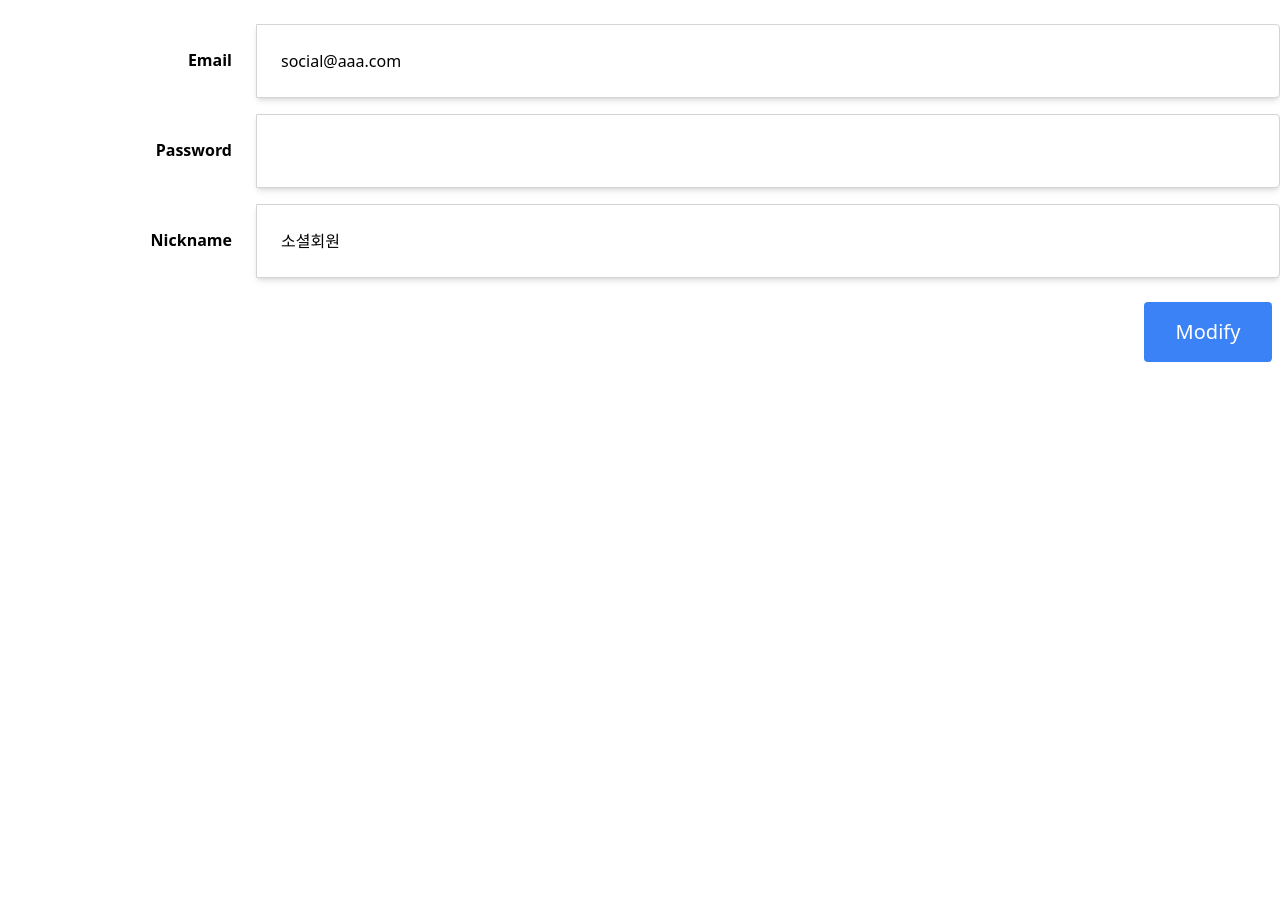
it: modification sends only form fields and the success modal logs out before returning to login
Type "2222" into the password field labelled "Password".
click(768, 151); type("2222")  # box [256,114,1279,188]
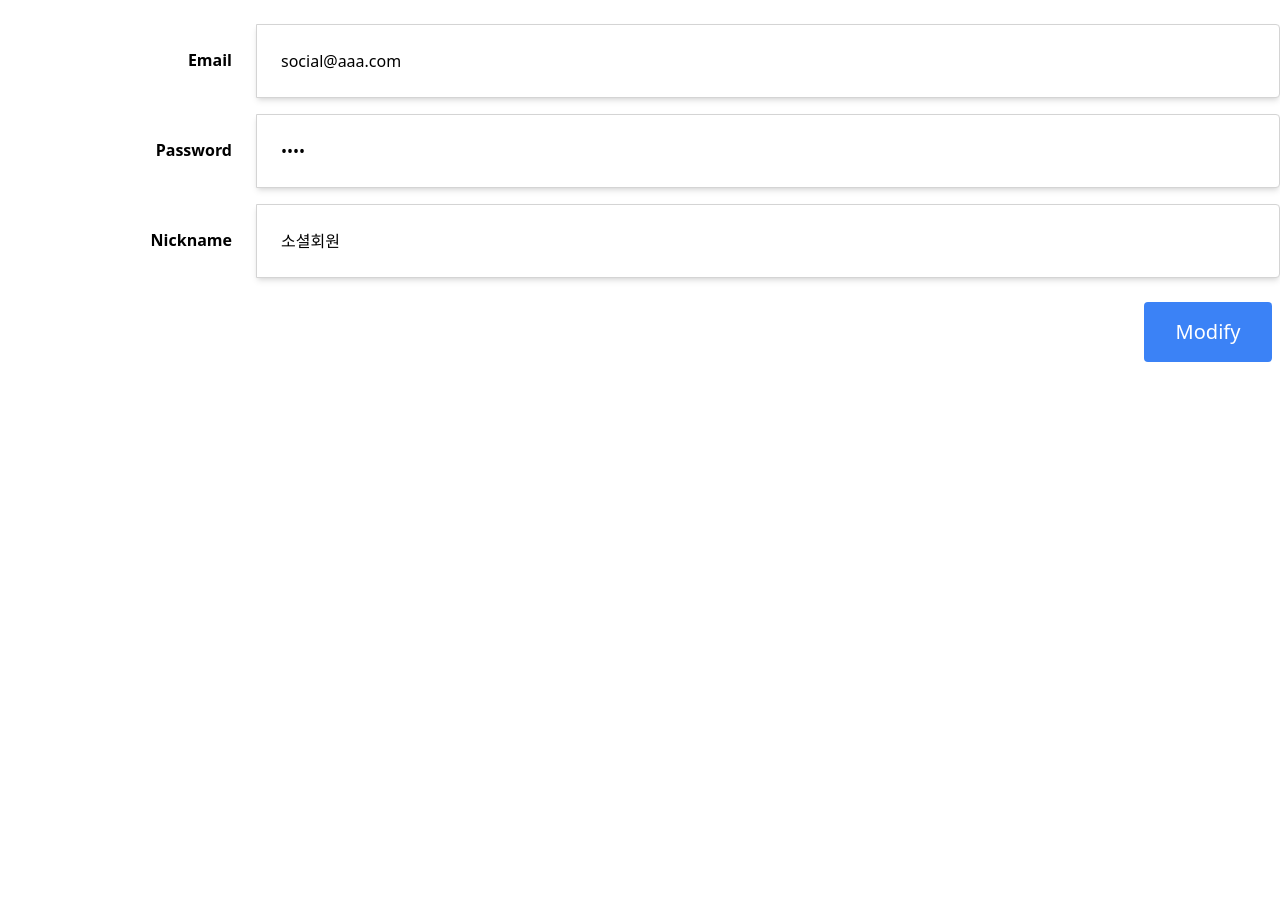
Replace the text in the field labelled "Nickname" with "새닉네임" at (768, 241), box [256,204,1279,278]
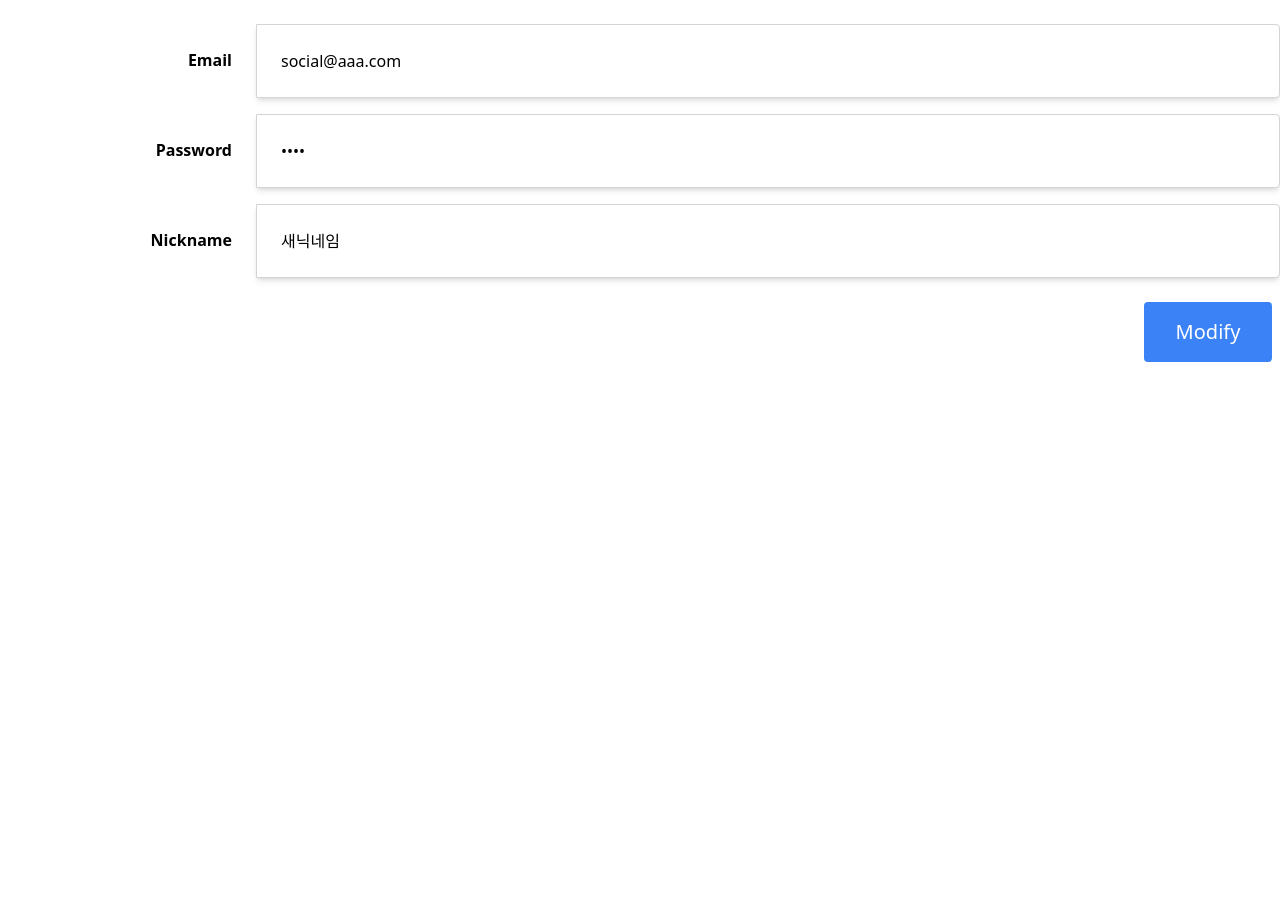
Click the button "Modify".
click(1208, 332)  # box [1144,302,1272,362]
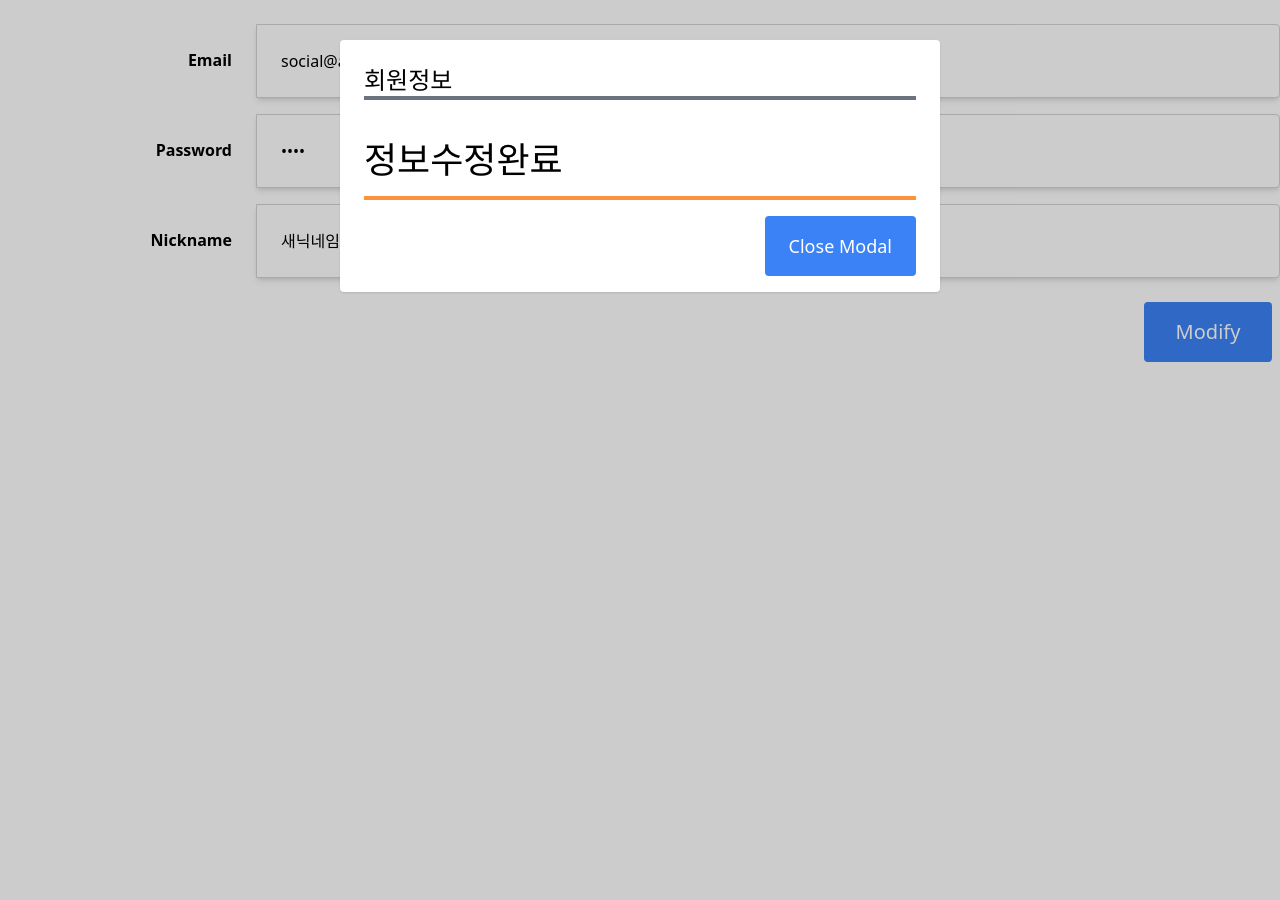
Now the dialog "회원정보" shows "정보수정완료", box [364,135,563,184]
Click the button "Close Modal".
click(840, 246)  # box [765,216,916,276]
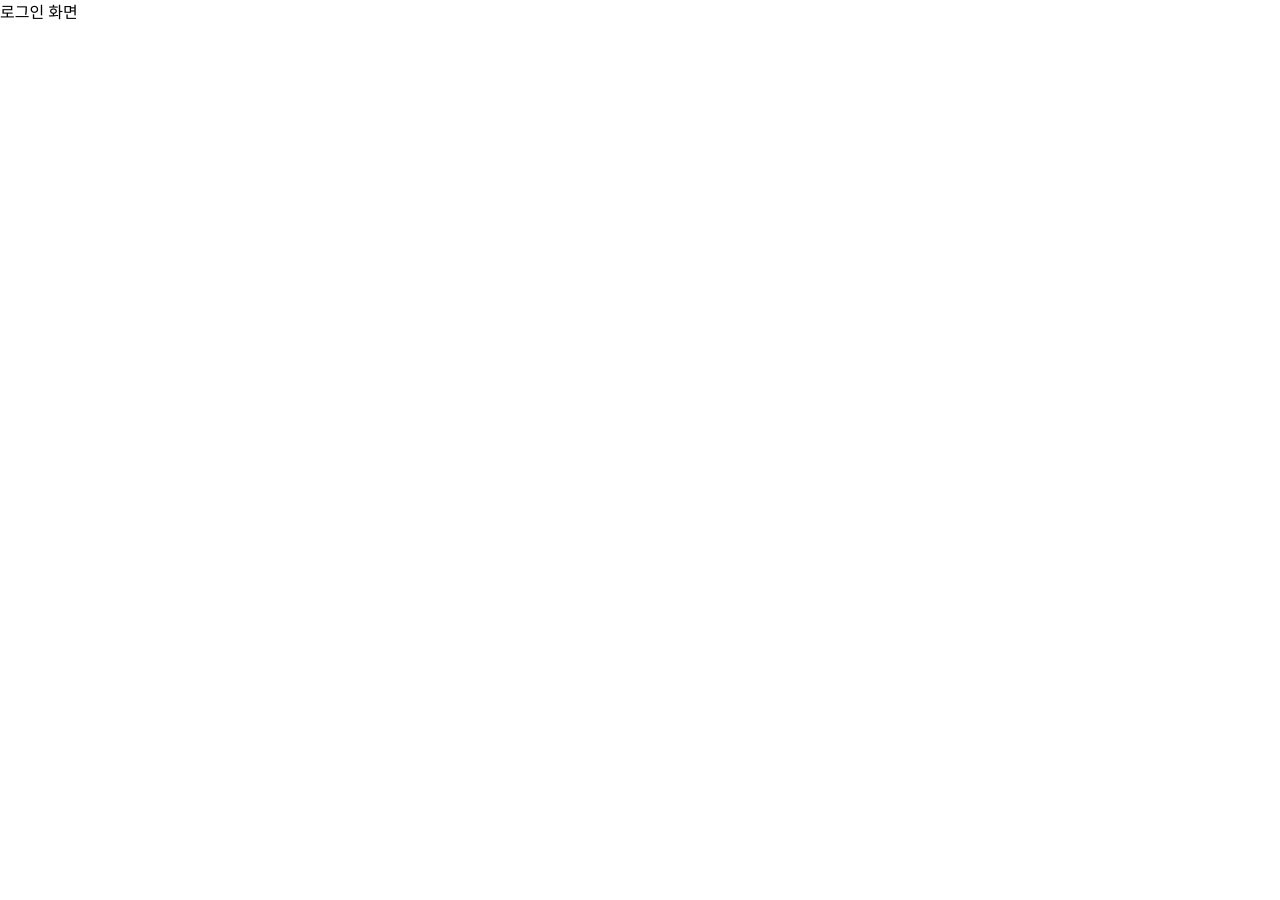
Now the text "로그인 화면" is shown, box [0,1,78,23]
